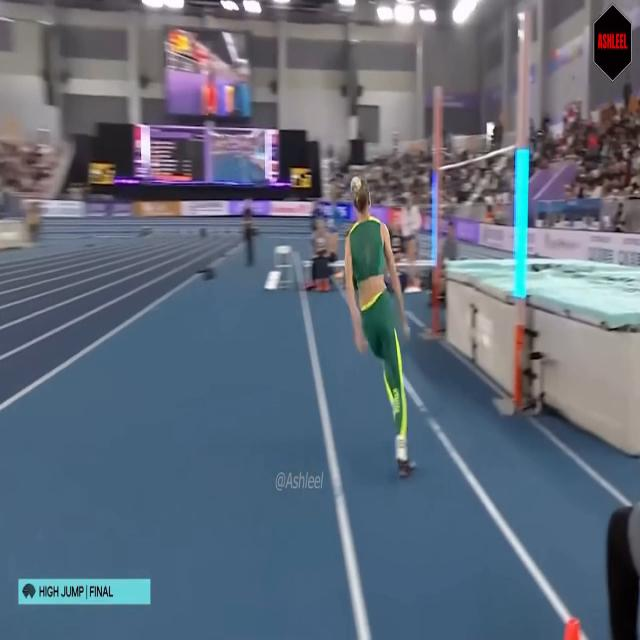run: (343, 172, 417, 478)
